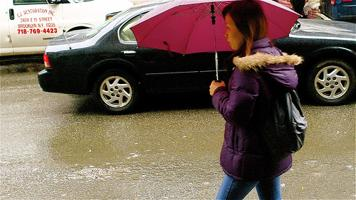person: (209, 1, 304, 199)
